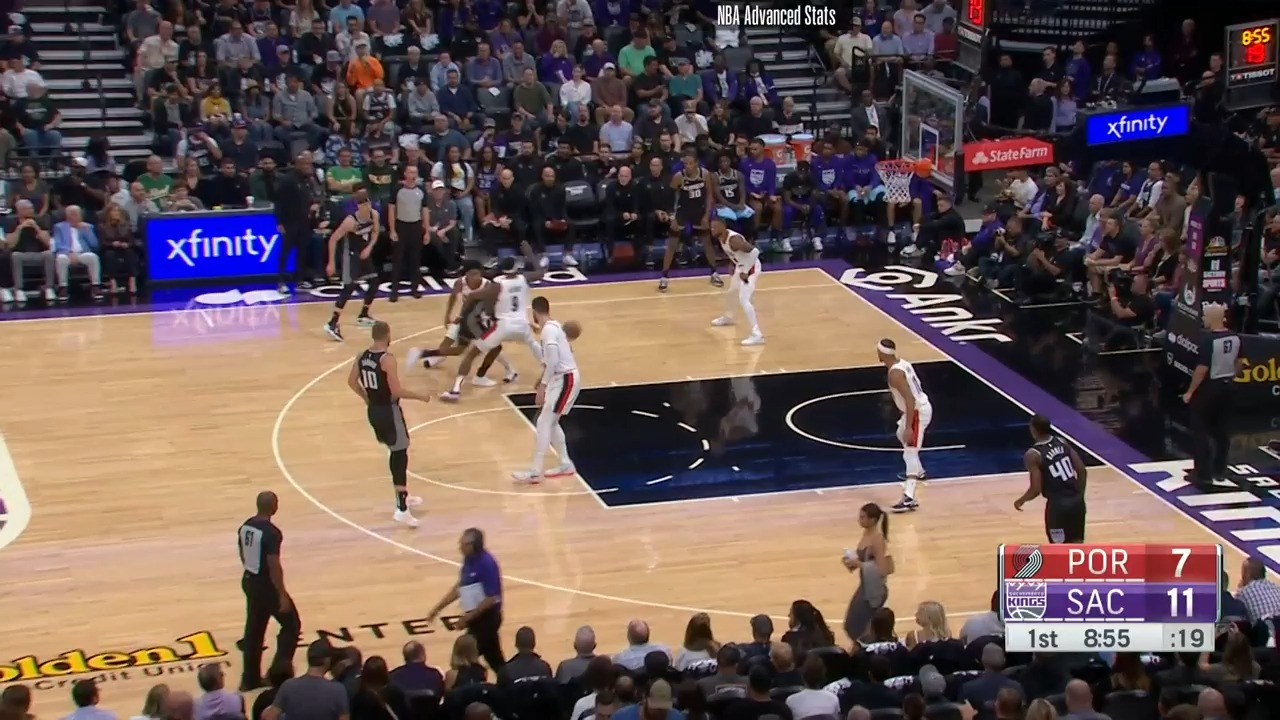net: (877, 151, 936, 202)
player: (348, 319, 435, 533), (439, 236, 546, 405), (515, 295, 587, 489), (867, 334, 933, 514), (404, 283, 518, 387), (1015, 411, 1100, 545), (656, 150, 729, 295), (328, 185, 392, 337), (414, 262, 498, 375), (701, 215, 765, 353)
referee: (235, 489, 307, 689), (1174, 305, 1245, 495), (384, 165, 440, 303)
